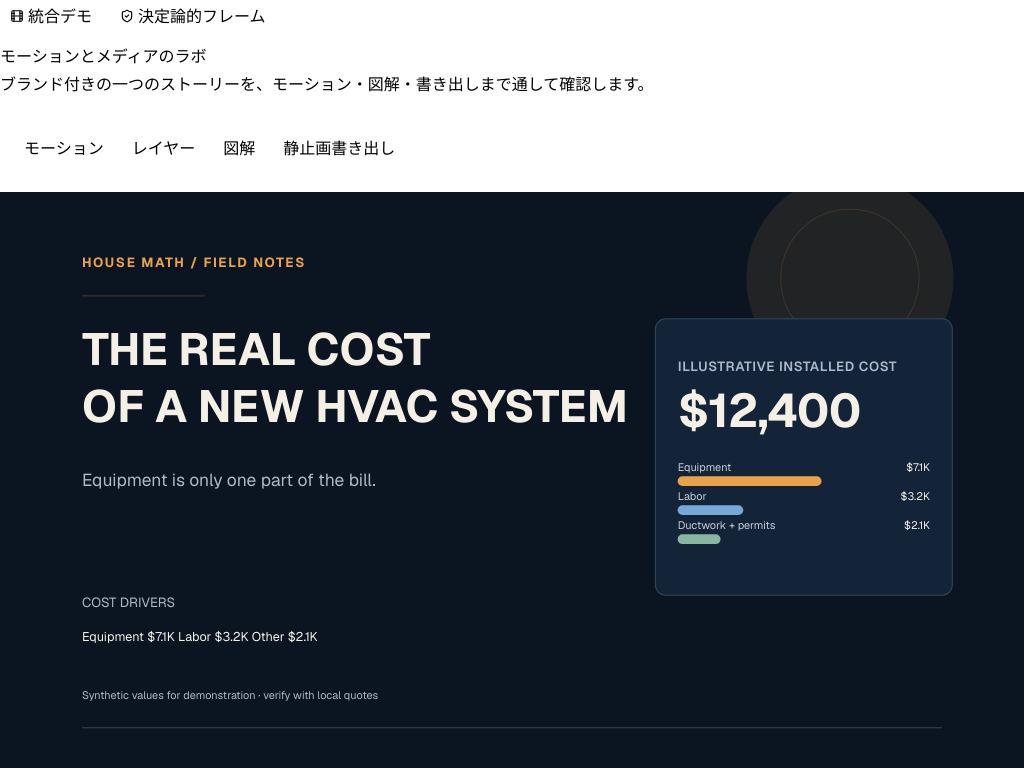
Test: MotionMediaShowcase › shows the Japanese interface and localized illustrative-data disclaimer
The width and height of the screenshot is (1024, 768).
Expected: the heading "モーションとメディアのラボ" is shown, [0,46,207,66]
Click the tab "図解" at (239, 148), box [211,132,267,164]
(page scrolled)
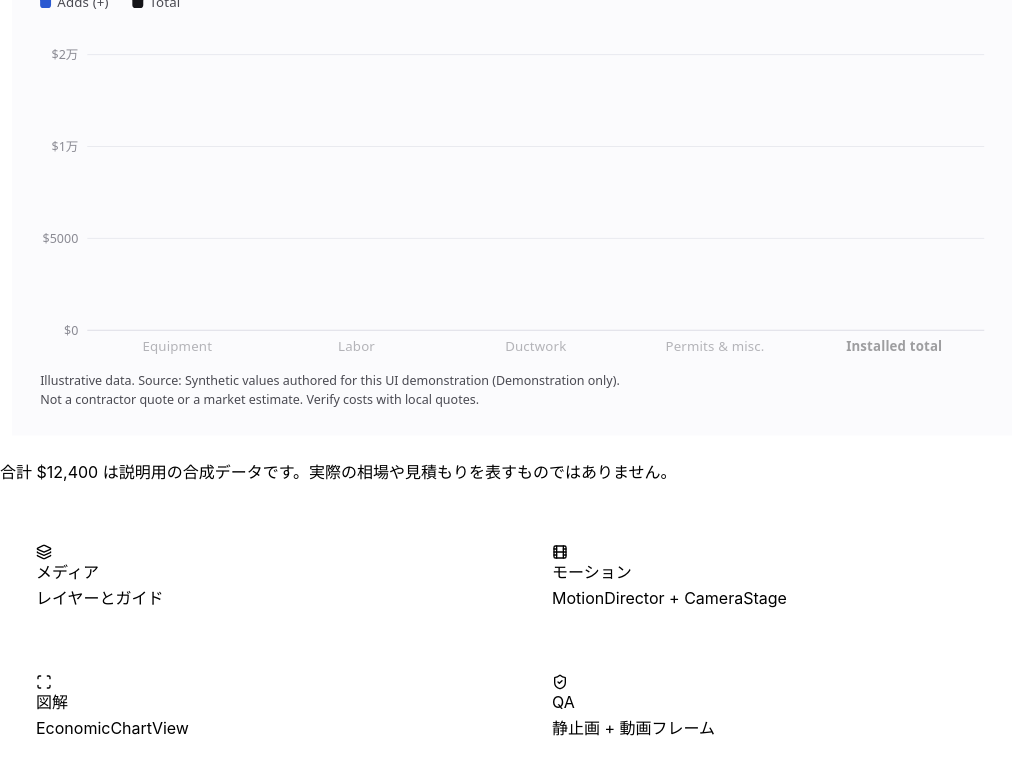
Expected: the text "合計 $12,400 は説明用の合成データです。実際の相場や見積もりを表すものではありません。" is shown, [0,462,677,482]
